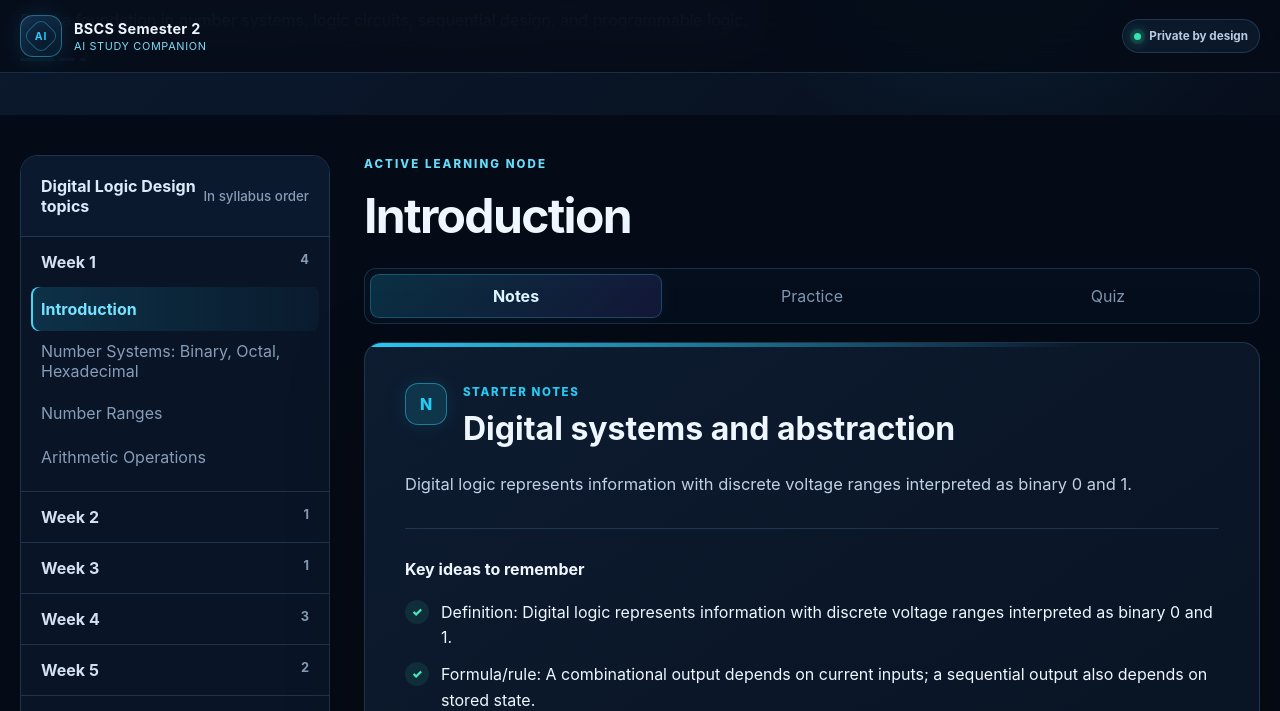
Test case: study interactions › selects a Digital Logic Design topic and shows its study notes
(page scrolled)
Step 1. Click the button "Number Systems: Binary, Octal, Hexadecimal" → click(175, 361), box [31,331,319,391]
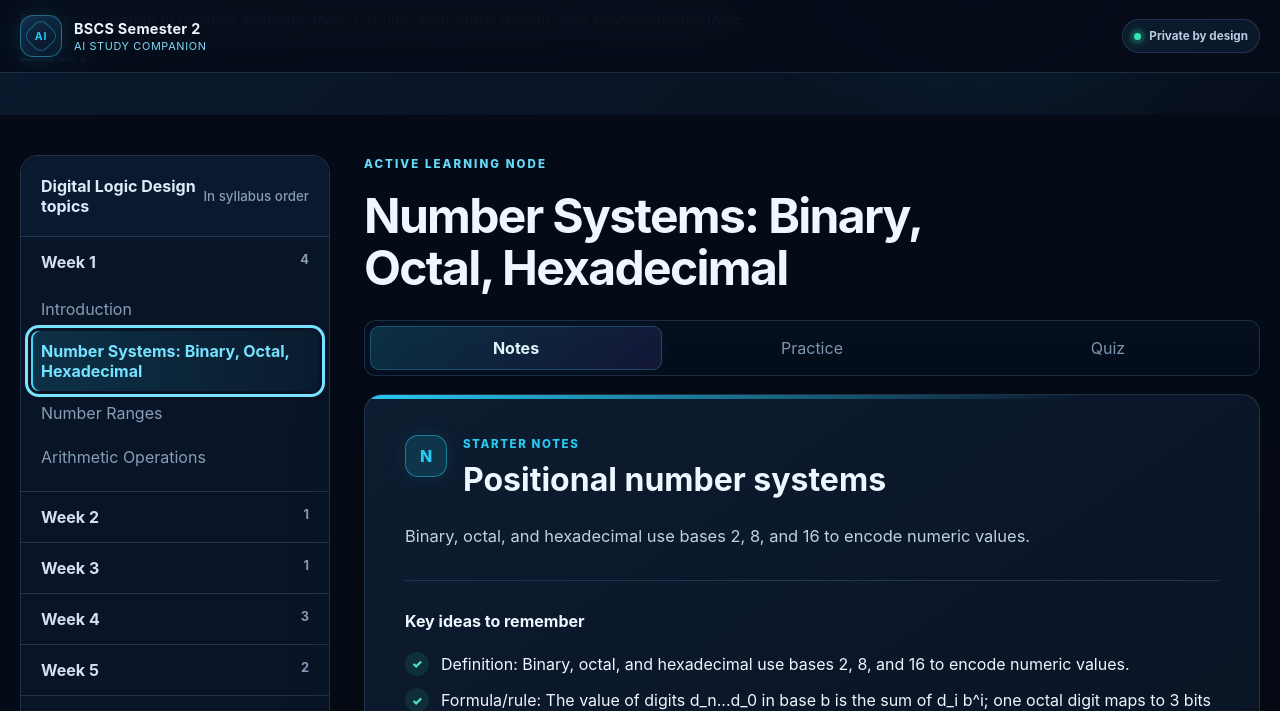
Check: the heading "Positional number systems" is shown, box [463,464,886,498]
